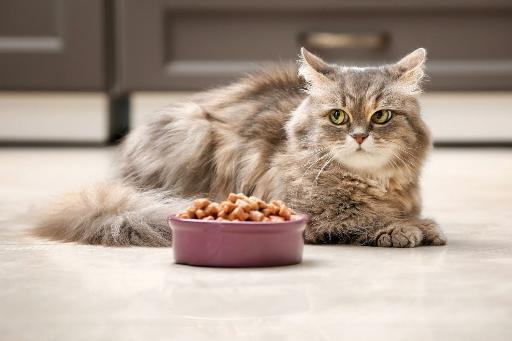cat_eating: (26, 48, 446, 268)
